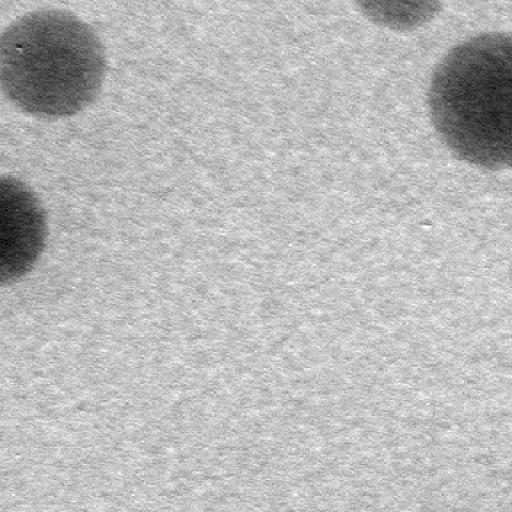Nanoparticles: (2, 3, 114, 120), (426, 31, 512, 173), (0, 171, 52, 290), (350, 0, 450, 31)
